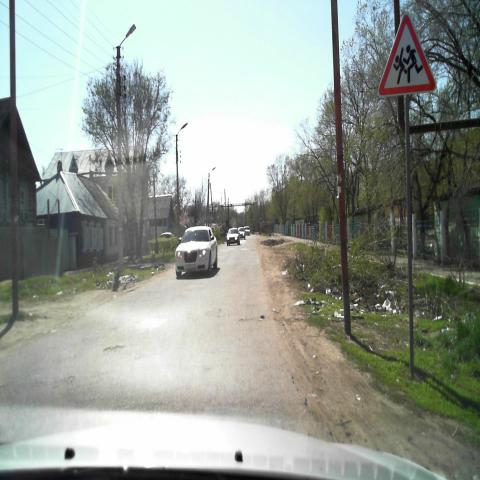1_23: (376, 10, 438, 99)
